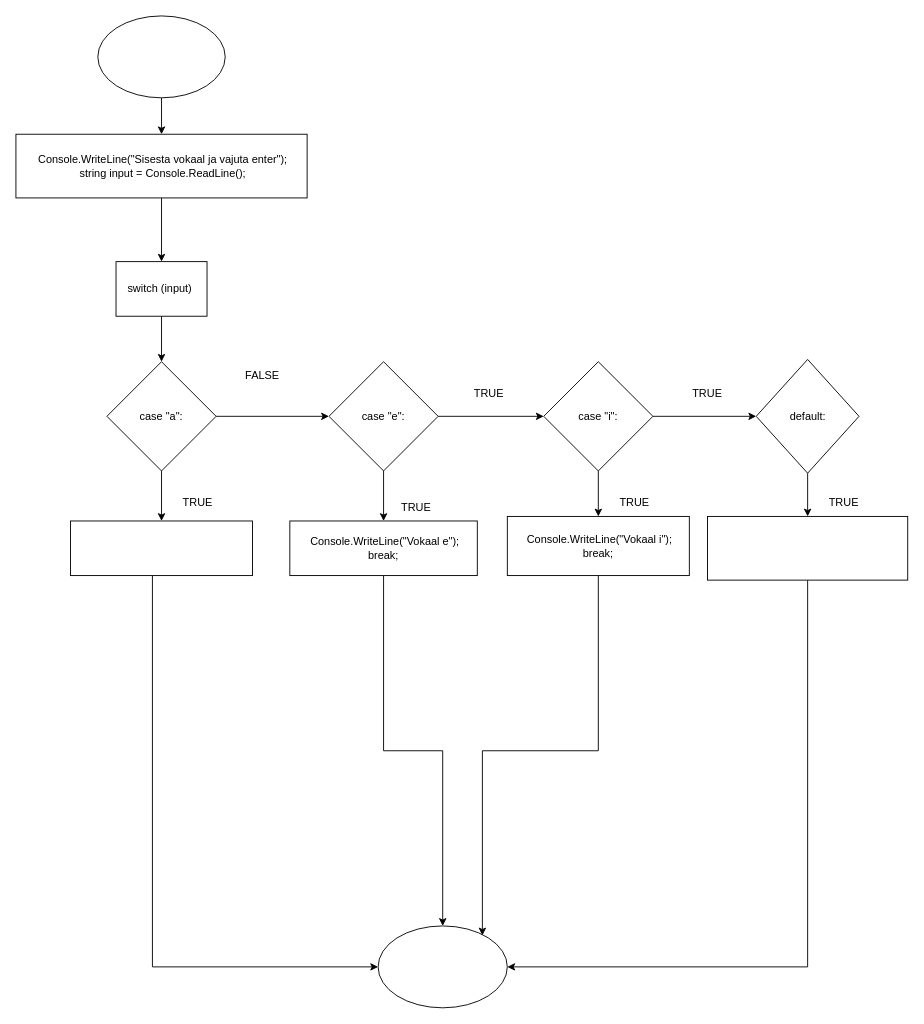
The diagram is 924 pixels wide and 1024 high, and some of its shapes have lost their labels. The shapes that lost their labels are listed below. From the top down, each one's centre as x and y in pixels, then its label:
point (161, 56): START
point (161, 548): Console.WriteLine("Vokaal a"); break;
point (807, 548): Console.WriteLine("Muu täht"); break;
point (442, 966): END
